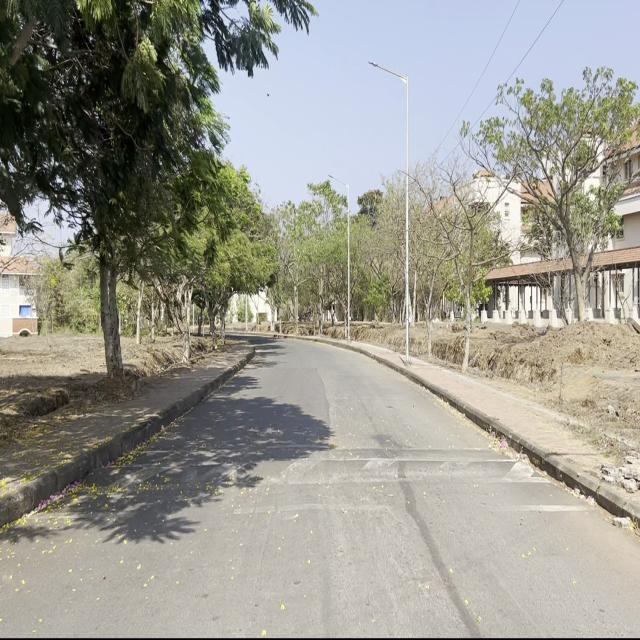Road: (1, 333, 639, 633)
